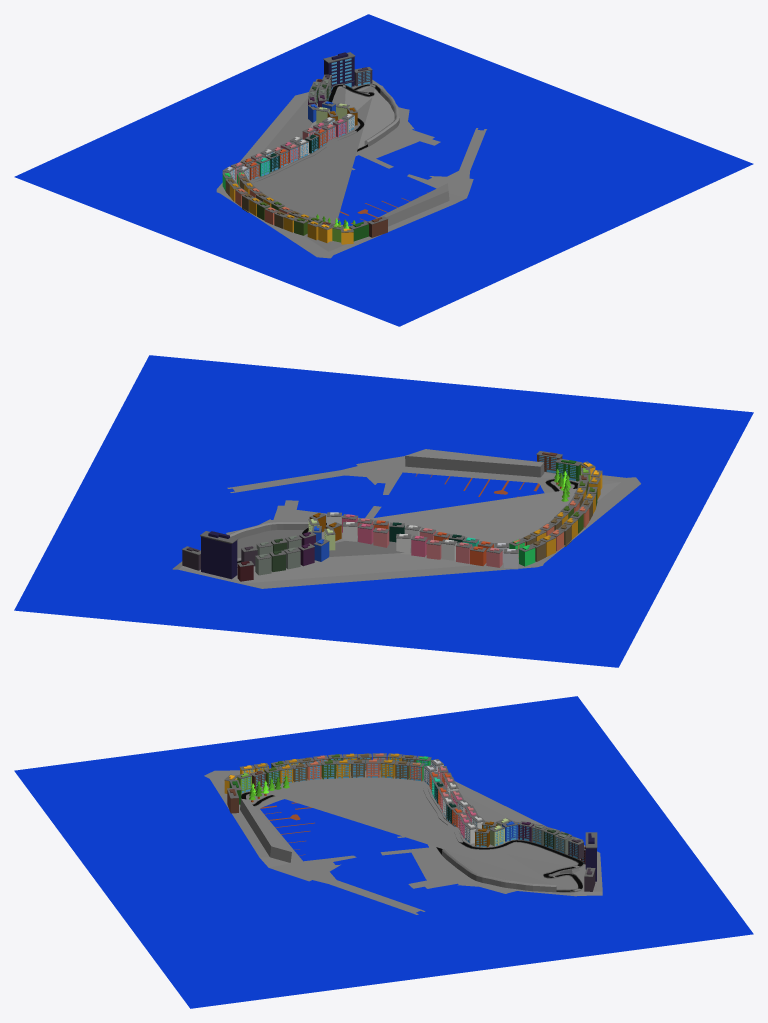
Rendered from cicruit.fbx.
3 renders of one model, top to bottom at view 1: azimuth 30°, elevation 25°; view 2: azimuth 150°, elevation 25°; view 3: azimuth 270°, elevation 25°, orthographic. The views are drawn at different scales.
Visible parts, largest first — view 1: decor; view 2: decor; view 3: decor, Route, murExter.
Part boxes in pixels (x1,y1,x2,y2): decor: (14,14,753,326); decor: (14,355,753,667); decor: (14,696,753,1008); Route: (241,792,583,891); murExter: (241,789,583,892).
Size of the model in its own units: 30701 by 1876 by 30701.
